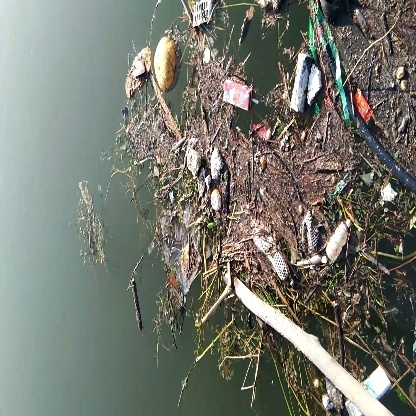branch: (126, 274, 151, 335)
